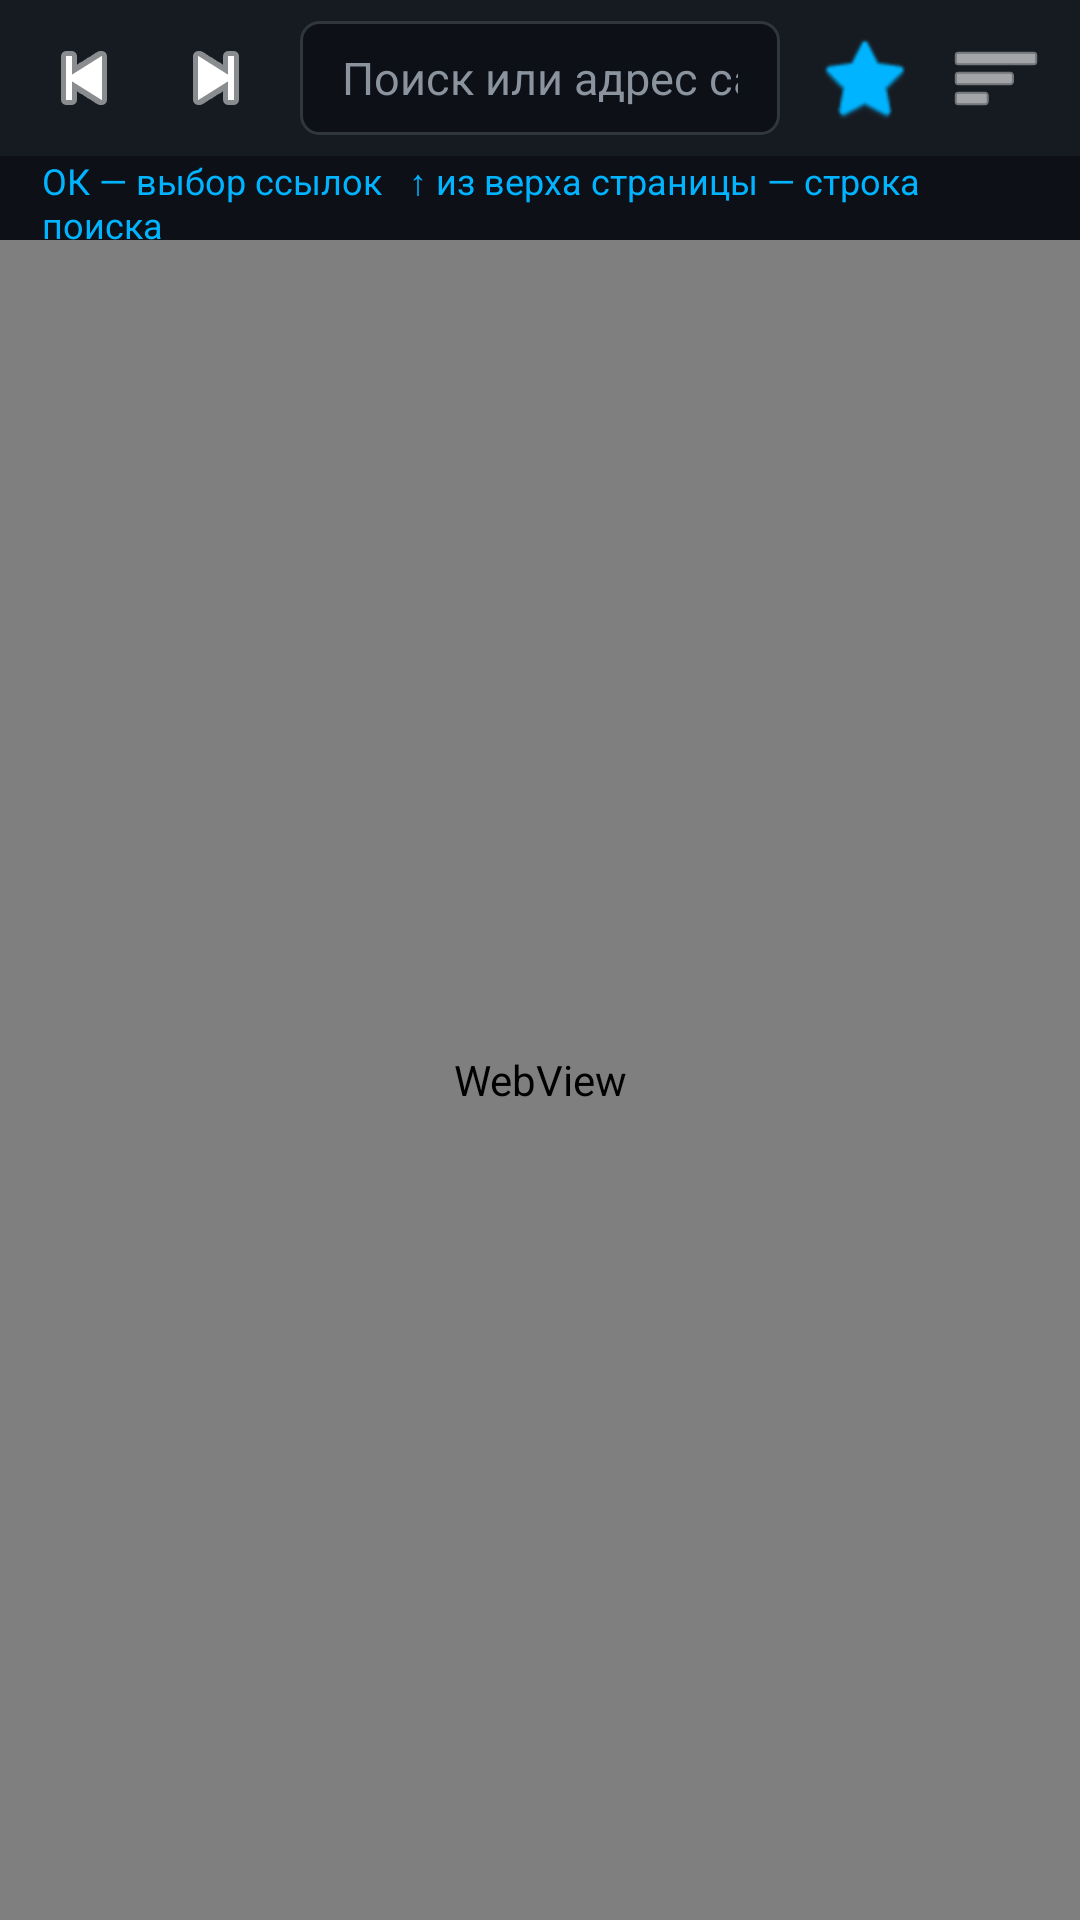

Where to tap for icons on this 1080px×1920px app screen, as [x,y]:
next: [216,78]
previous: [84,78]
sort by size: [996,78]
